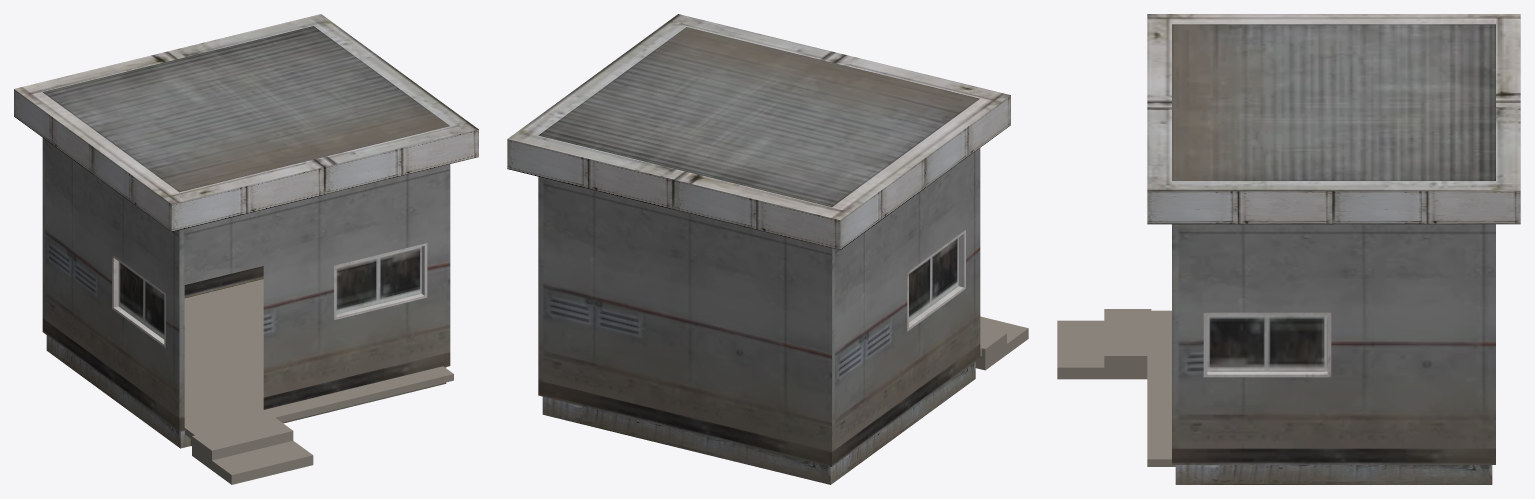
Rendered from ind-generic-2.access-v2.lod0.glb.
The picture shows the model from 3 angles, left to right: view 1: azimuth 30°, elevation 25°; view 2: azimuth 150°, elevation 25°; view 3: azimuth 270°, elevation 25°; orthographic projection. The views are drawn at different scales.
Parts seen in each view (by area): view 1: Industrial_GenericBuilding_2_Industrial_Trim_FLR_1_Dif_0, Walkable floors and stairs; view 2: Industrial_GenericBuilding_2_Industrial_Trim_FLR_1_Dif_0, Walkable floors and stairs; view 3: Industrial_GenericBuilding_2_Industrial_Trim_FLR_1_Dif_0, Walkable floors and stairs.
Boxes of the visible parts, box(x1,y1,x2,y2) form: Industrial_GenericBuilding_2_Industrial_Trim_FLR_1_Dif_0: box(14, 14, 478, 448); Walkable floors and stairs: box(184, 279, 453, 484); Industrial_GenericBuilding_2_Industrial_Trim_FLR_1_Dif_0: box(507, 14, 1010, 484); Walkable floors and stairs: box(975, 316, 1028, 370); Industrial_GenericBuilding_2_Industrial_Trim_FLR_1_Dif_0: box(1147, 14, 1520, 484); Walkable floors and stairs: box(1057, 309, 1175, 466).
Bounding box in the file's own units: 4.9 × 3.93 × 5.41.
Materials: 2 (1 with a texture image).
